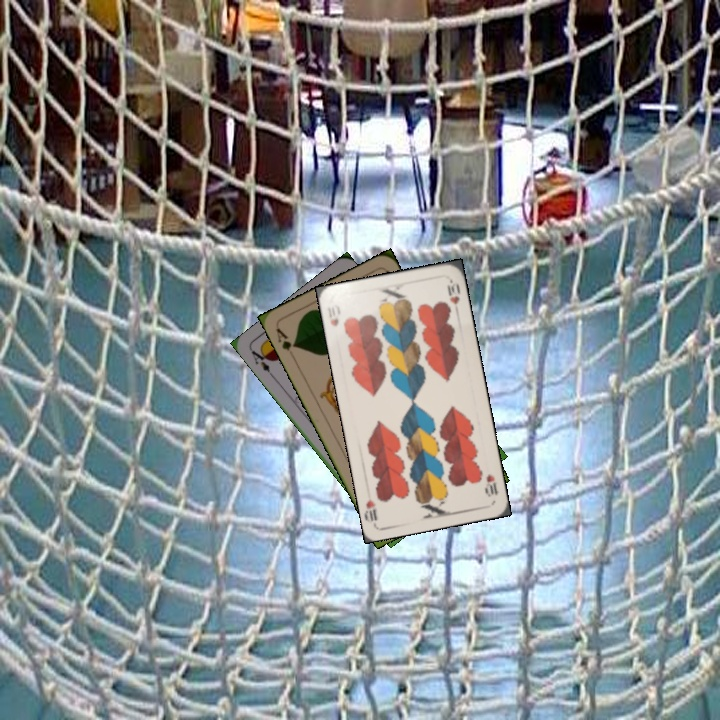EA: (246, 344, 277, 380)
GA: (272, 324, 299, 354)
H10: (481, 470, 500, 499), (326, 300, 343, 329)
